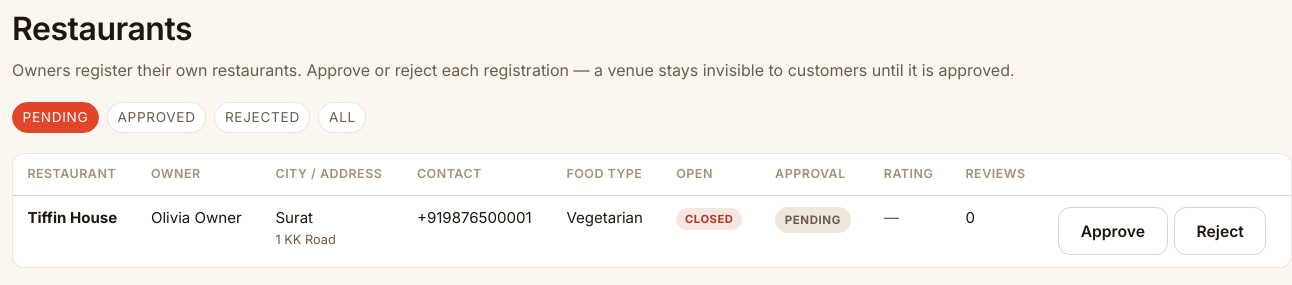
Test case: admin restaurant list › spins only the button that was pressed
Check: the text "Tiffin House" is shown, box [27, 208, 117, 227]
Click the button "Approve". click: (1113, 231)
box: [1058, 207, 1168, 255]
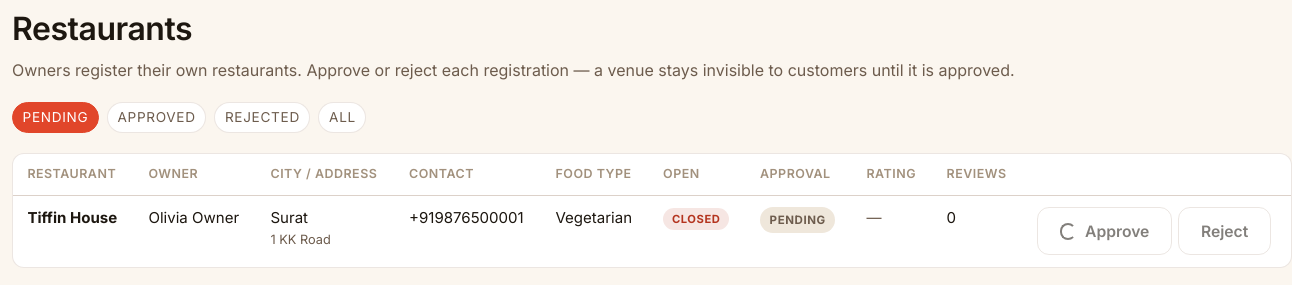
Check: the element with class "spin" is shown, box [1060, 223, 1076, 240]
